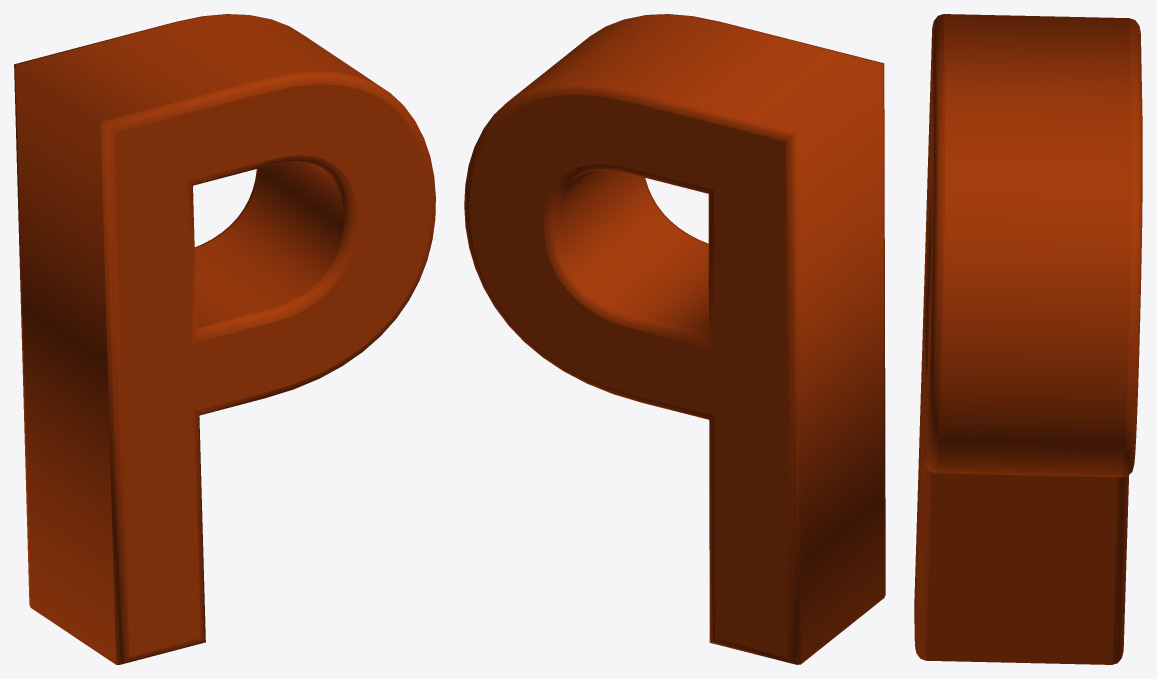
File: letters_P.obj
3 views of the same model, side by side, from view 1: azimuth 30°, elevation 25°; view 2: azimuth 150°, elevation 25°; view 3: azimuth 270°, elevation 25° (orthographic). The views are drawn at different scales.
Parts seen in each view (by area): view 1: Text; view 2: Text; view 3: Text.
Part boxes in pixels (x1=…): Text: x1=14, y1=14, x2=435, y2=664; Text: x1=464, y1=14, x2=885, y2=664; Text: x1=914, y1=14, x2=1142, y2=664.
Size of the model in its own units: 0.4583 by 0.7143 by 0.2452.
